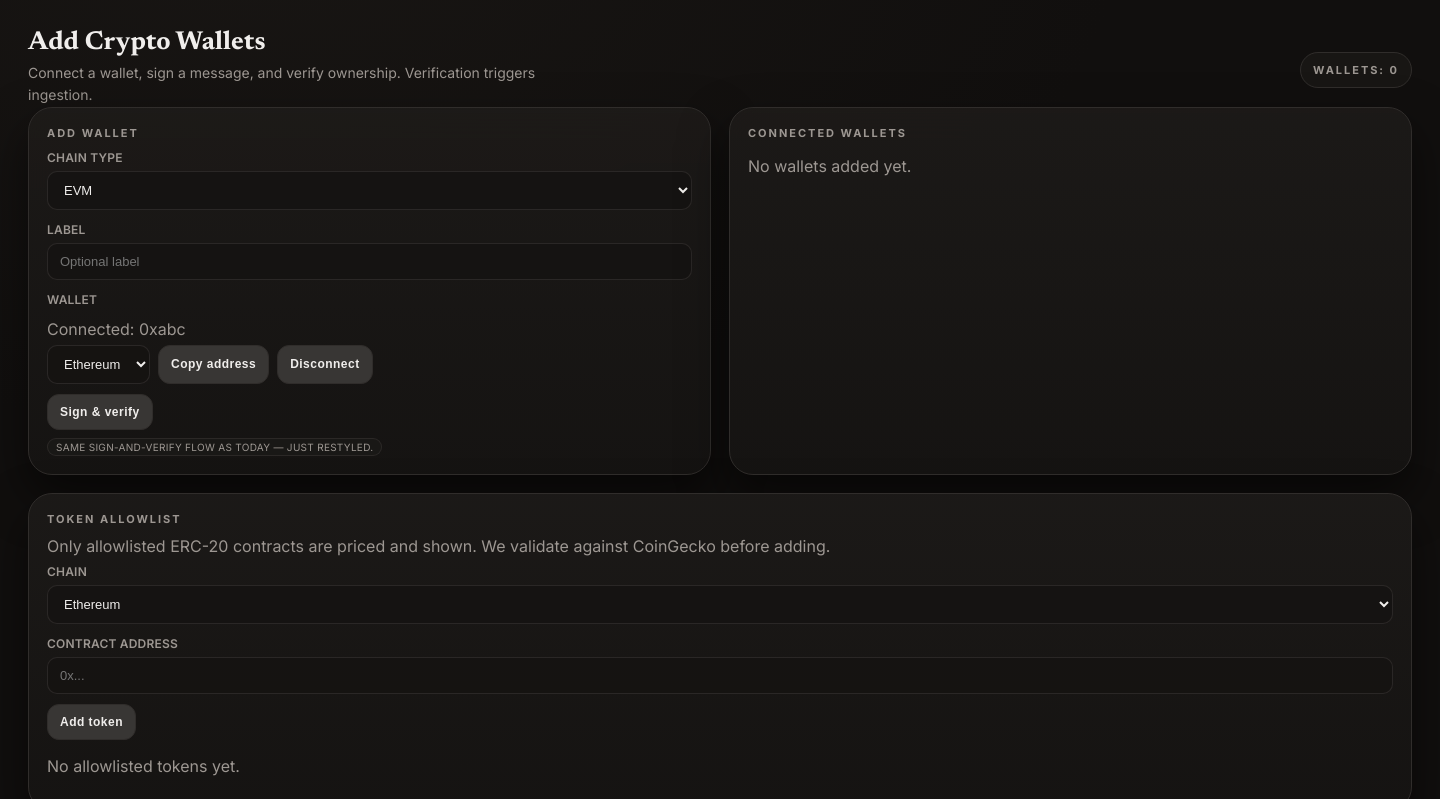
Test case: CryptoWallets route › shows verification error when wallet returns invalid signature
Expected: the text "Connected: 0xabc" is shown, [47,319,186,339]
Step 1. Click the button "Sign & verify" → (100, 412), box [47,394,153,430]
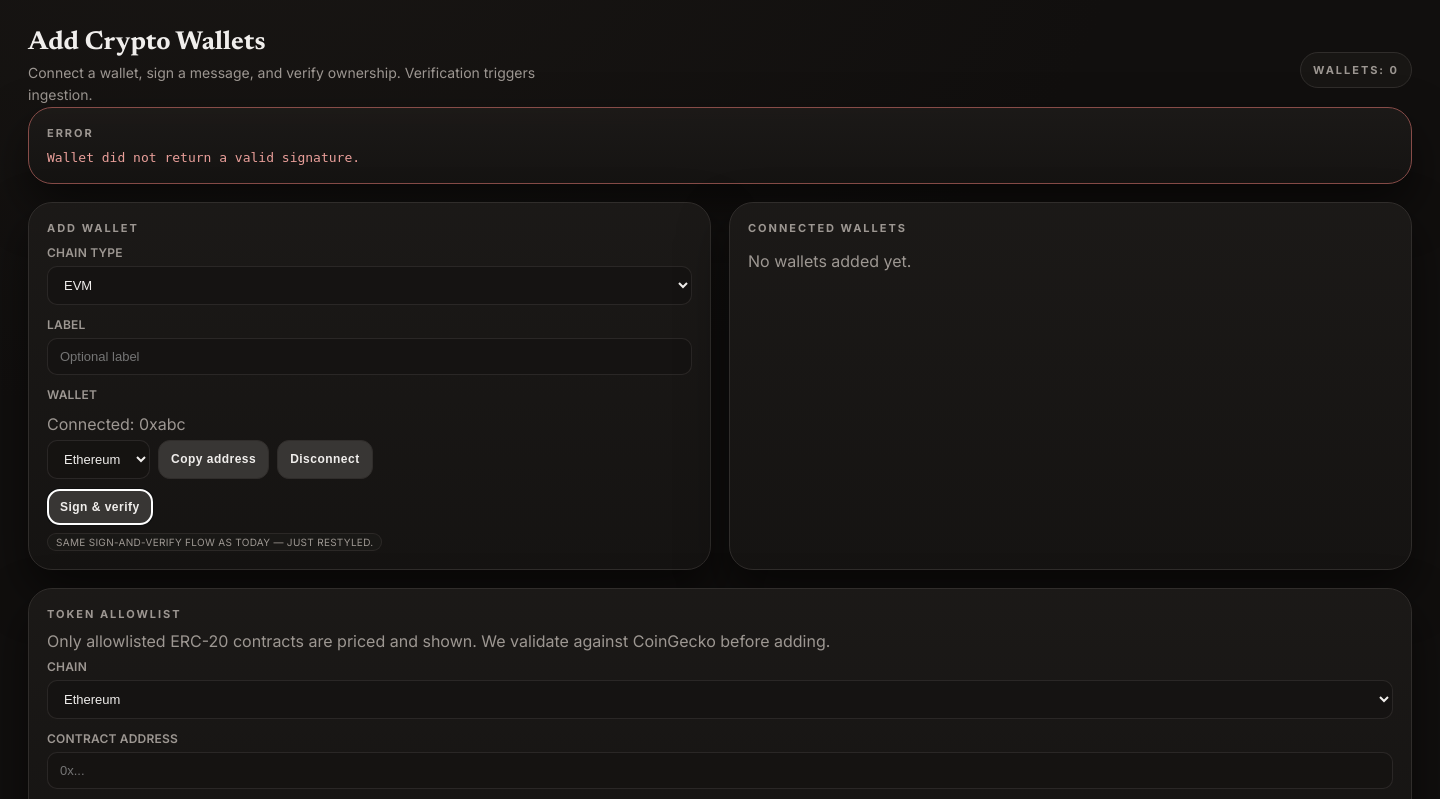
Expected: the text "Wallet did not return a valid signature." is shown, [47,150,360,165]
